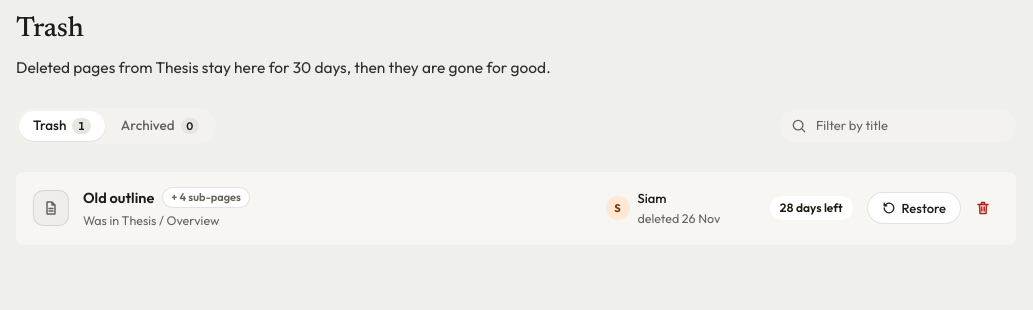
it: trash page › plainRestoreSaysSoWithoutTheTopNotice
What coordinates should you click on to do the following:
click the button "Restore"
I would click on:
 (914, 208)
Its box is [867,192,961,224].
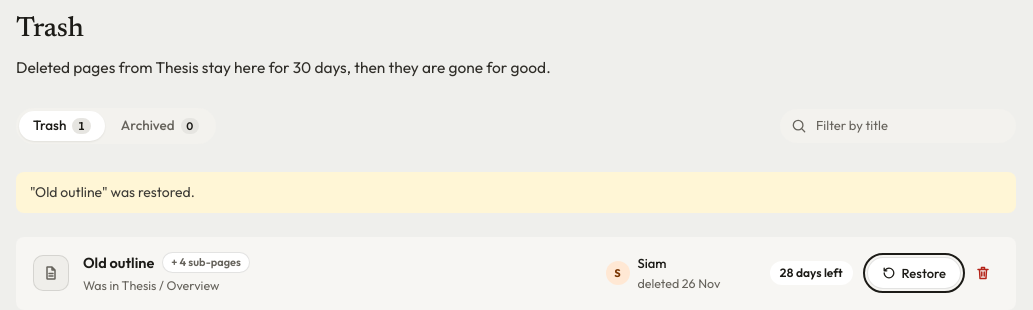
Expected: the message reads "\"Old outline\" was restored.", [30,183,195,201]
